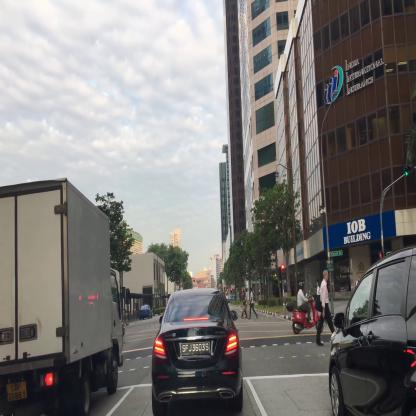red_traffic_light: (280, 262, 286, 285)
